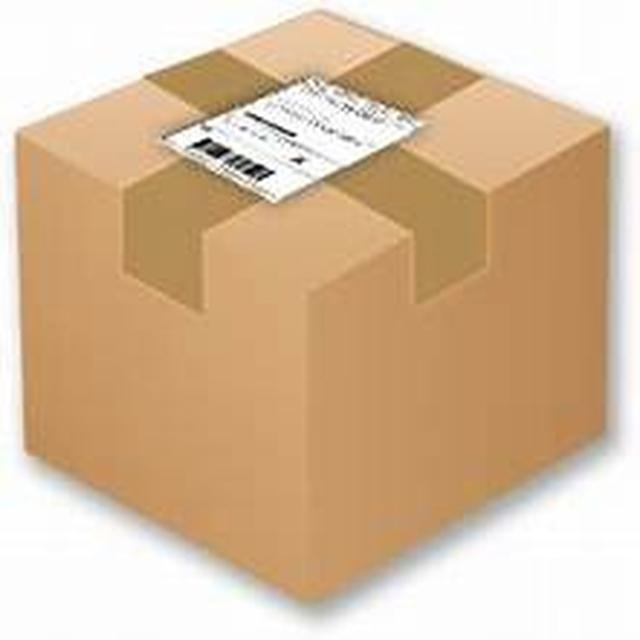box: (4, 8, 640, 605)
